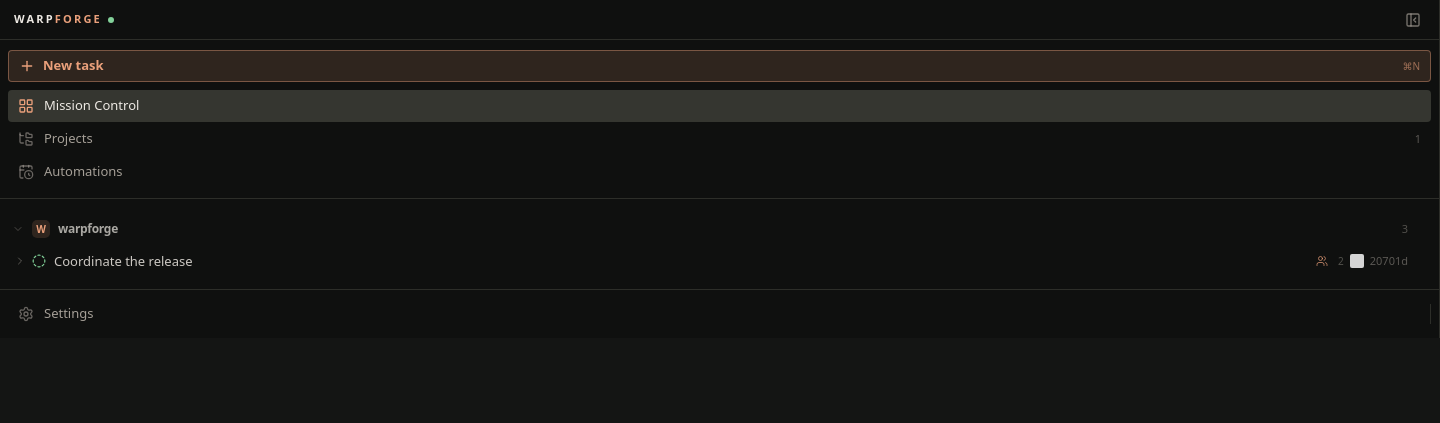
Scenario: Sidebar workspace tree › keeps subtasks hidden until the expand toggle is used
Expected: the text "Coordinate the release" is shown, [54,252,193,270]
Expected: the text "Update the daemon" is not shown
Click the button named "Expand 2 subtasks of Coordinate the release".
click(20, 261)  # box [10,251,30,271]
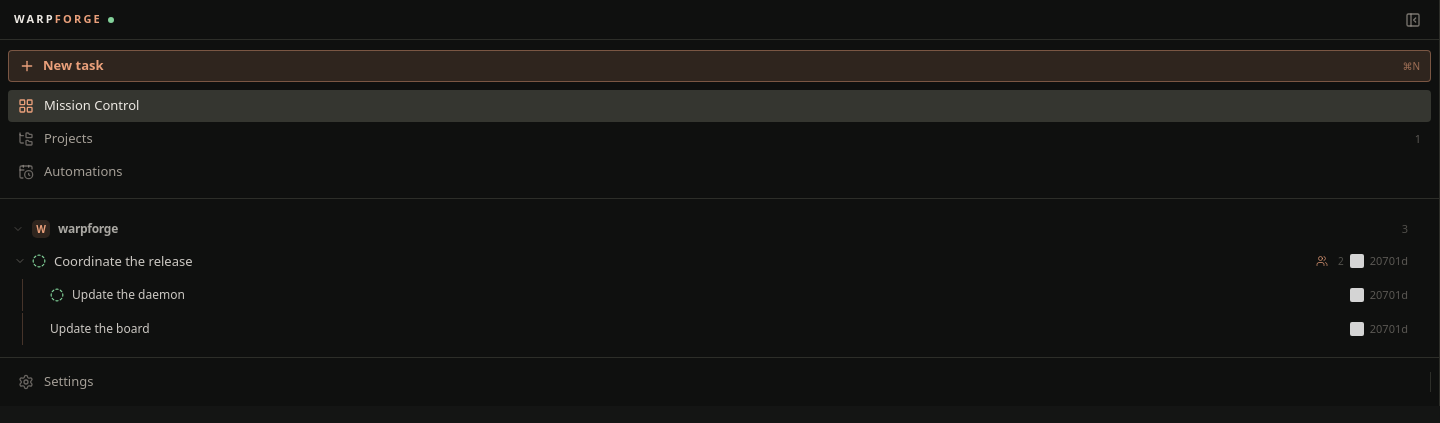
Result: the text "Update the daemon" is shown at [72,286,185,303]
Result: the text "Update the board" is shown at [50,320,150,337]
Click the button named "Collapse 2 subtasks of Coordinate the release".
click(20, 261)  # box [10,251,30,271]
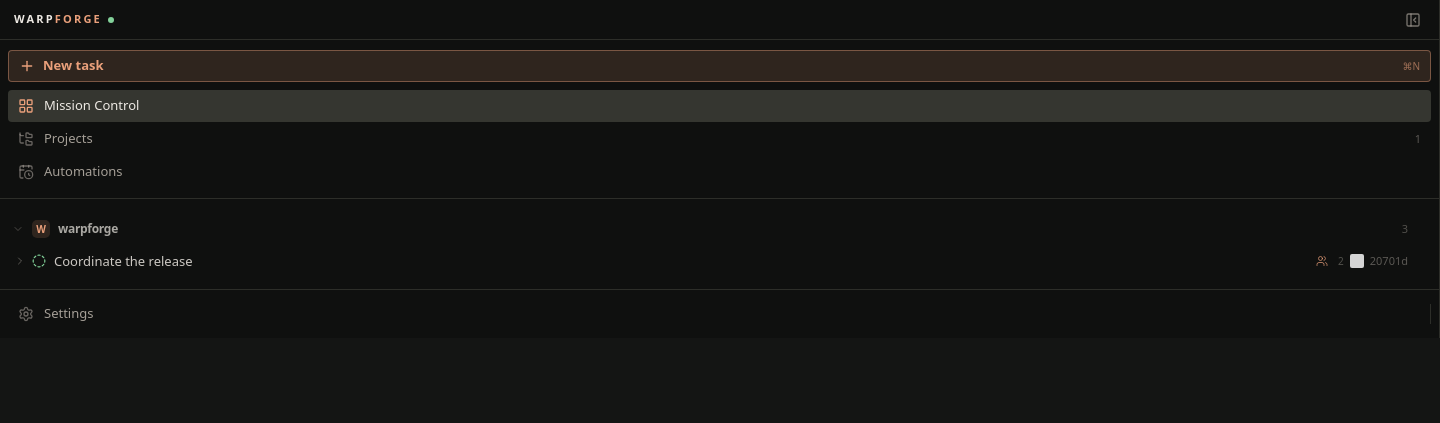
Result: the button "Update the daemon" is gone
